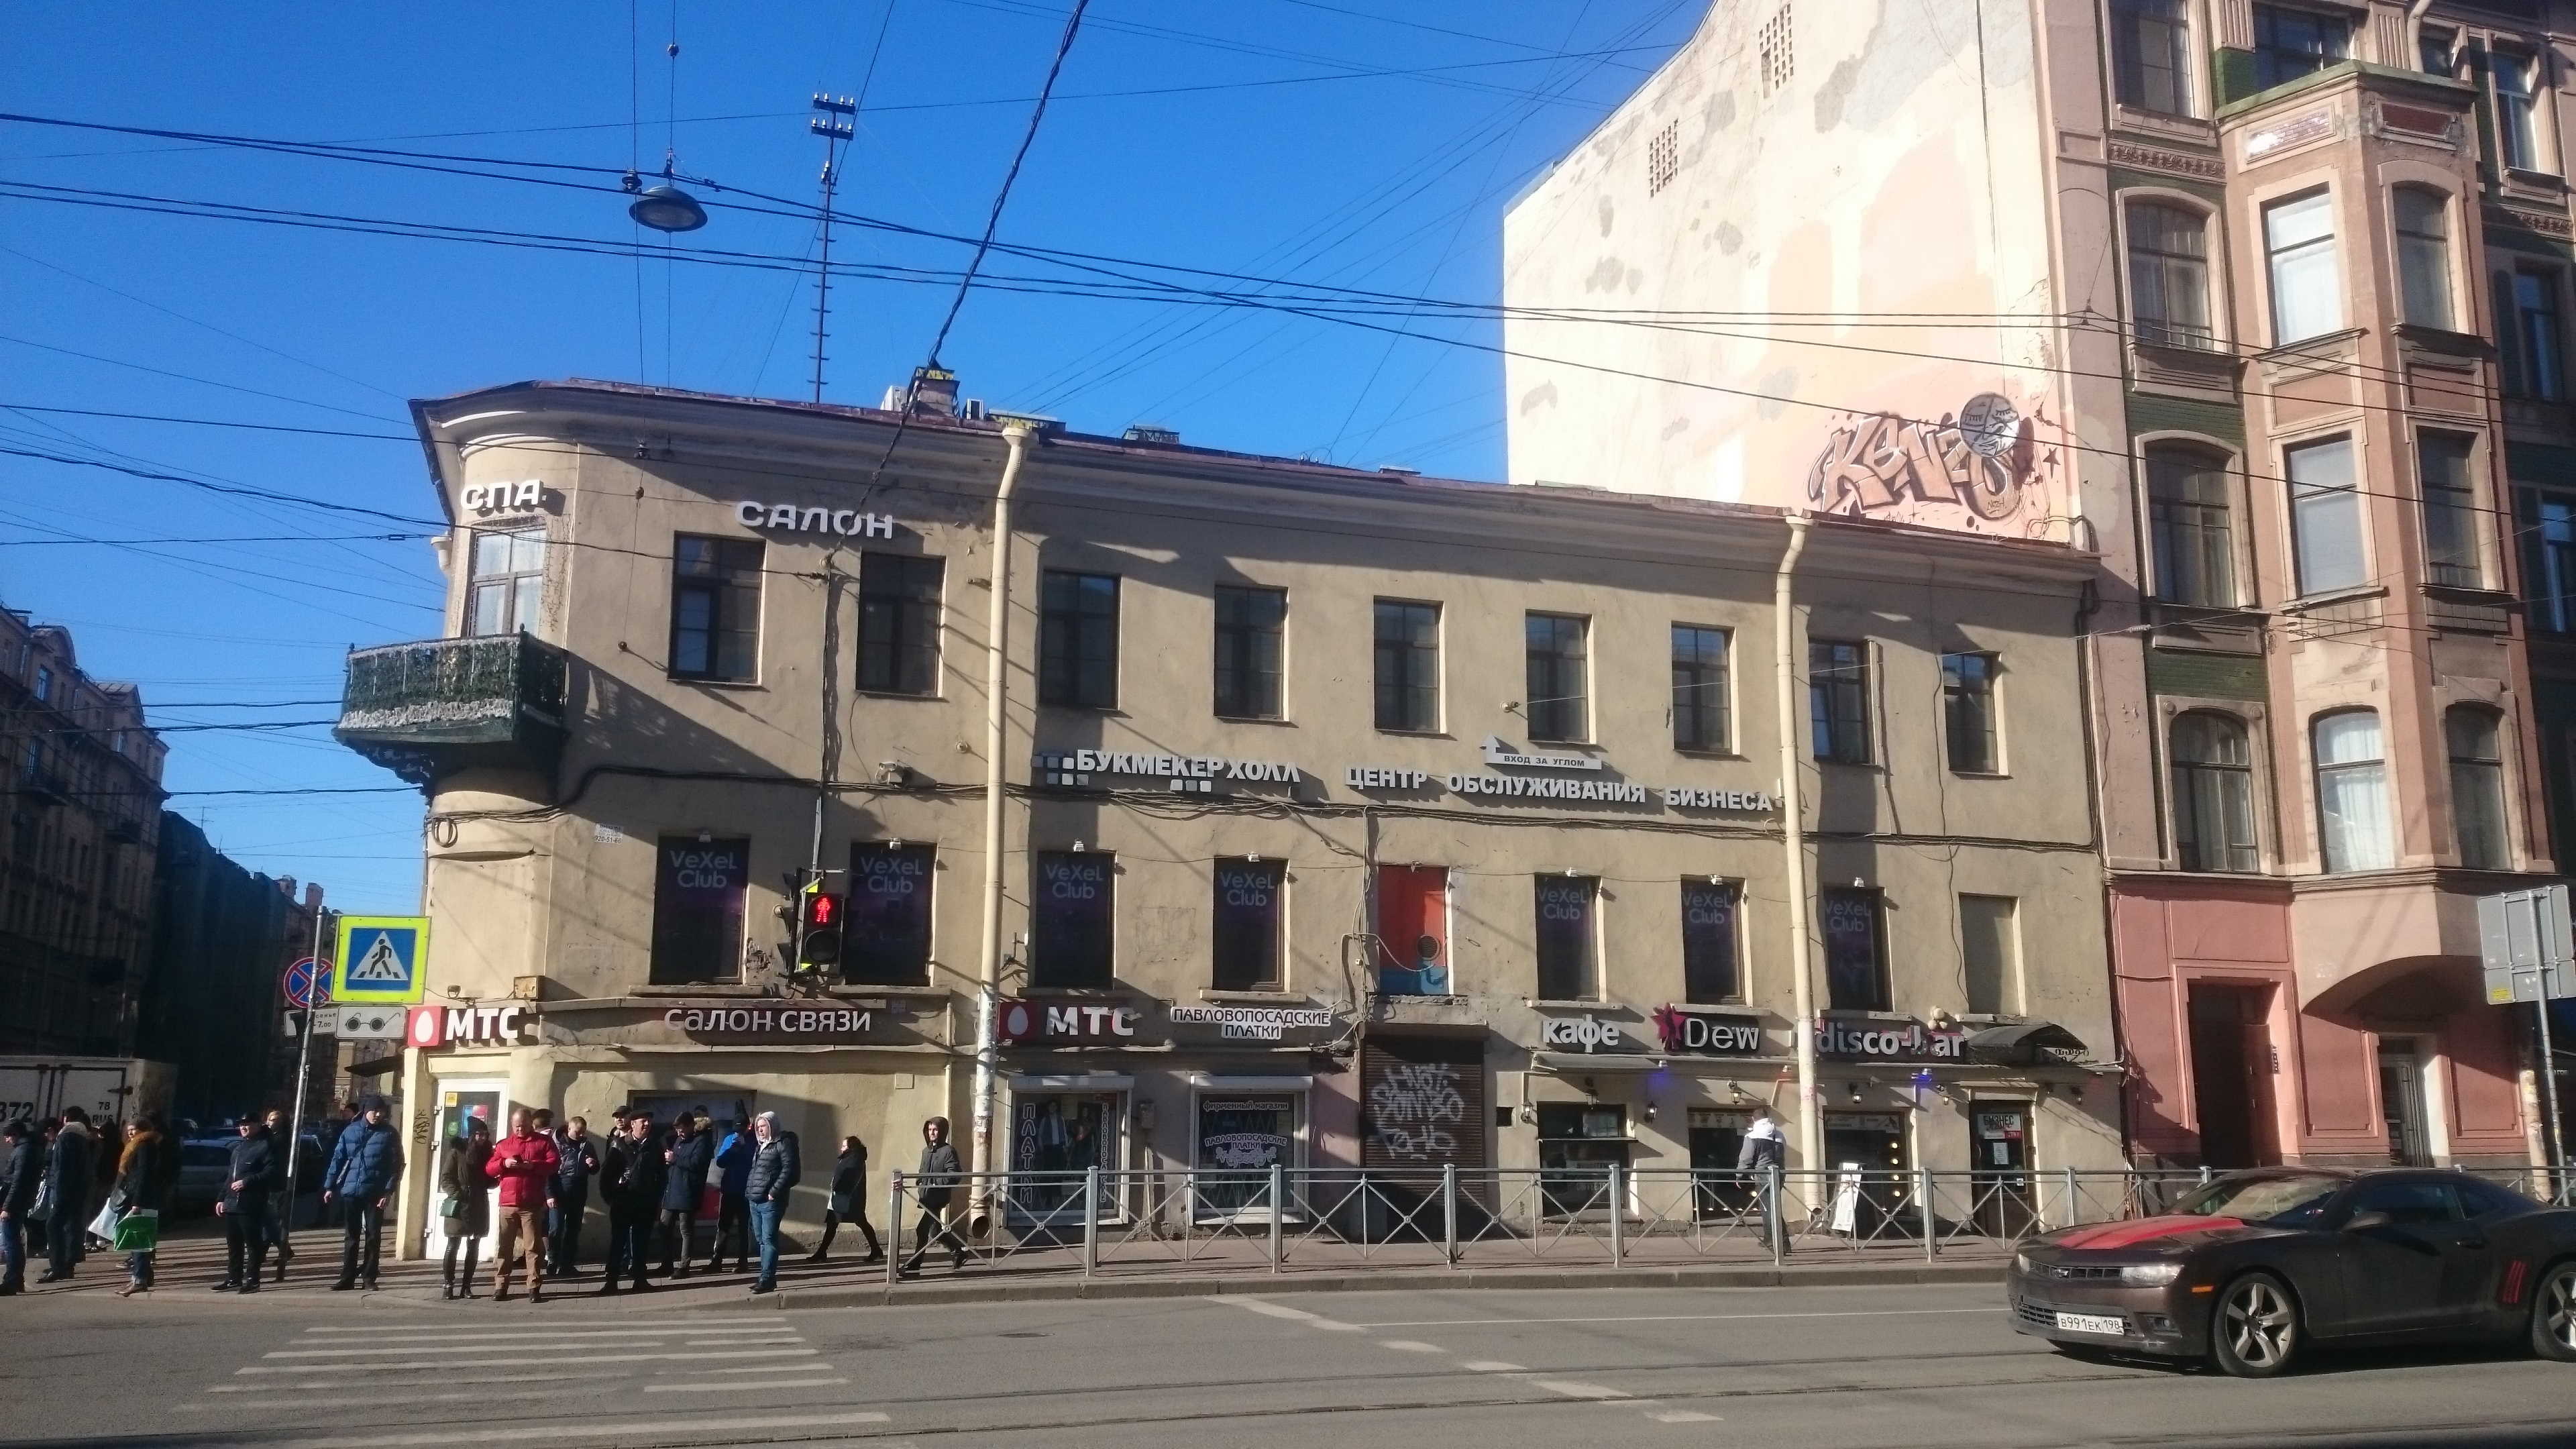signboard: (1346, 738, 1780, 828), (1028, 722, 1306, 801), (642, 991, 893, 1047), (731, 485, 911, 545), (1803, 1019, 1962, 1067), (1166, 1010, 1355, 1049), (1654, 1001, 1767, 1054), (994, 1005, 1134, 1047), (405, 1000, 527, 1047), (1543, 1010, 1633, 1063), (460, 476, 563, 518)
window: (2146, 437, 2245, 616), (2121, 189, 2224, 359), (649, 839, 747, 980), (2171, 708, 2252, 870), (672, 543, 761, 686), (849, 554, 943, 688), (1033, 577, 1122, 704), (842, 846, 927, 977), (1037, 849, 1109, 991), (1215, 580, 1290, 717), (1376, 596, 1444, 741), (1815, 879, 1884, 1005), (1812, 632, 1874, 771), (1534, 878, 1605, 1000), (1941, 658, 2013, 775), (1215, 865, 1283, 985), (1532, 610, 1594, 740), (1966, 892, 2028, 1017), (1672, 621, 1732, 748), (1693, 878, 1744, 1008)
